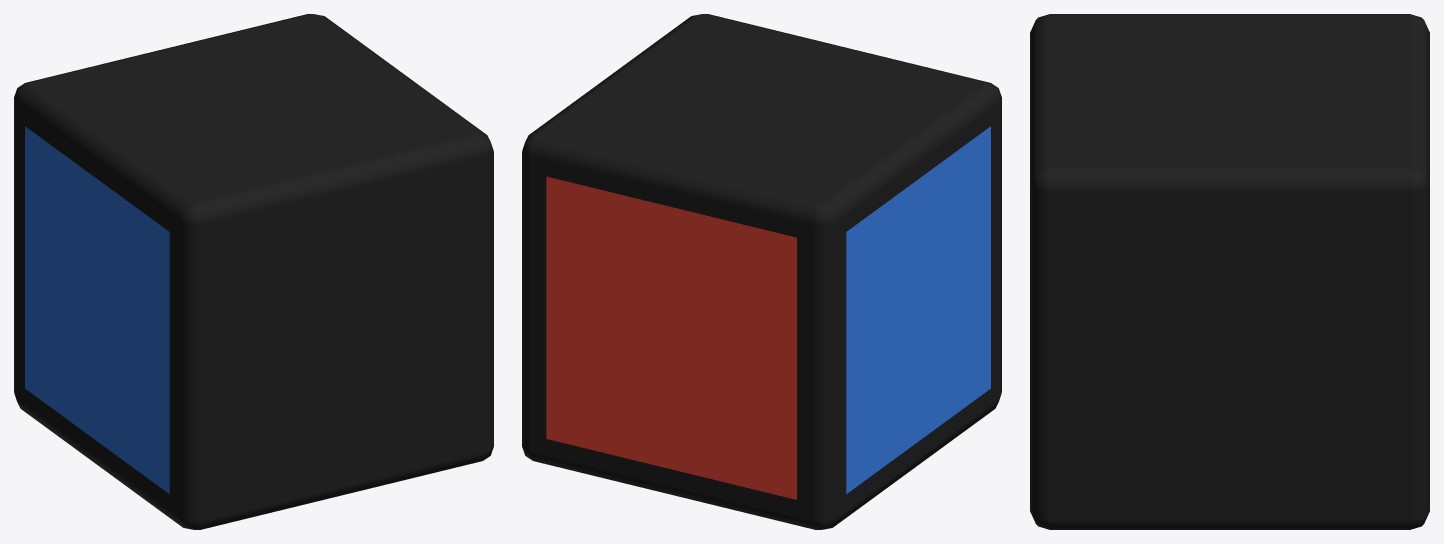
3 views of the same model, side by side, from view 1: azimuth 30°, elevation 25°; view 2: azimuth 150°, elevation 25°; view 3: azimuth 270°, elevation 25° (orthographic). The views are drawn at different scales.
Parts seen in each view (by area): view 1: 3; view 2: 3; view 3: 3.
Boxes of the visible parts, bbox=[...] form: 3: bbox=[14, 14, 493, 529]; 3: bbox=[522, 14, 1001, 529]; 3: bbox=[1030, 14, 1429, 529].
Bounding box in the file's own units: 2 × 2 × 2.
